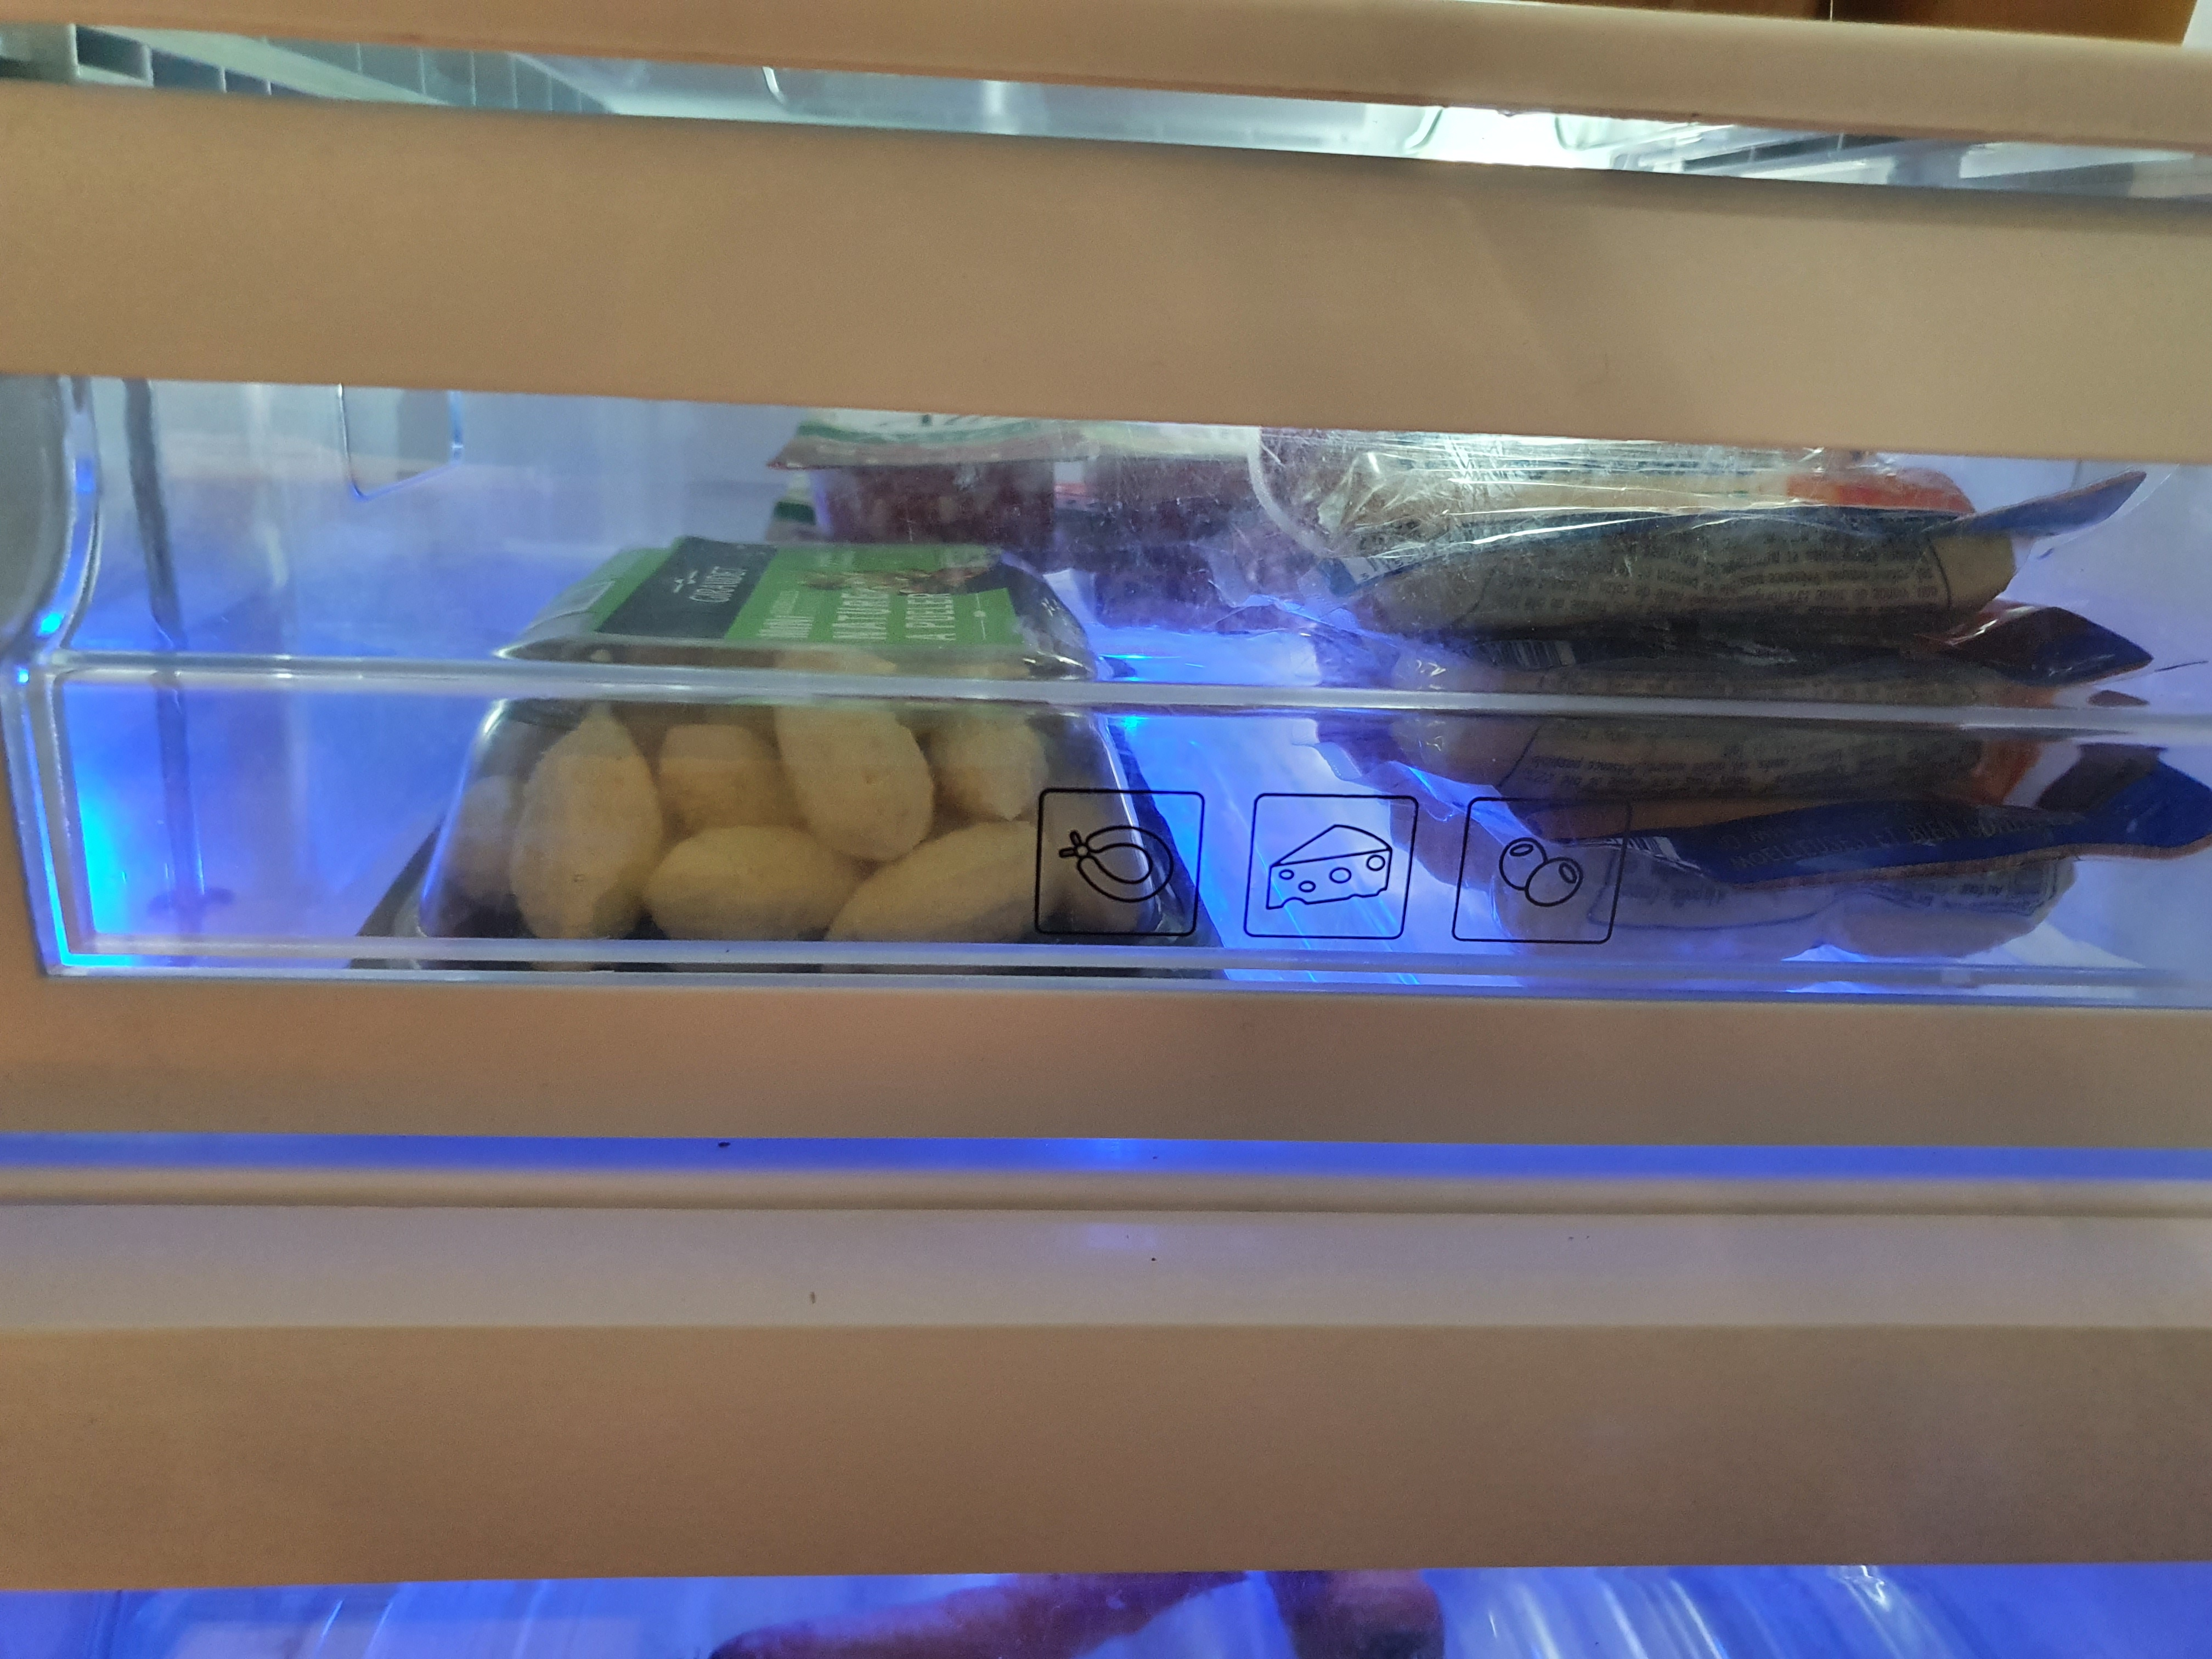bacon: (782, 411, 1082, 549), (1082, 533, 1298, 638), (1089, 425, 1261, 549)
